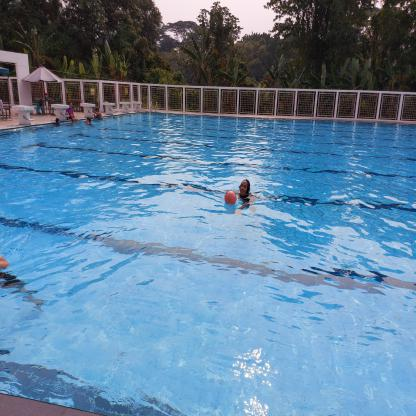red_buoy: (224, 190, 237, 205)
